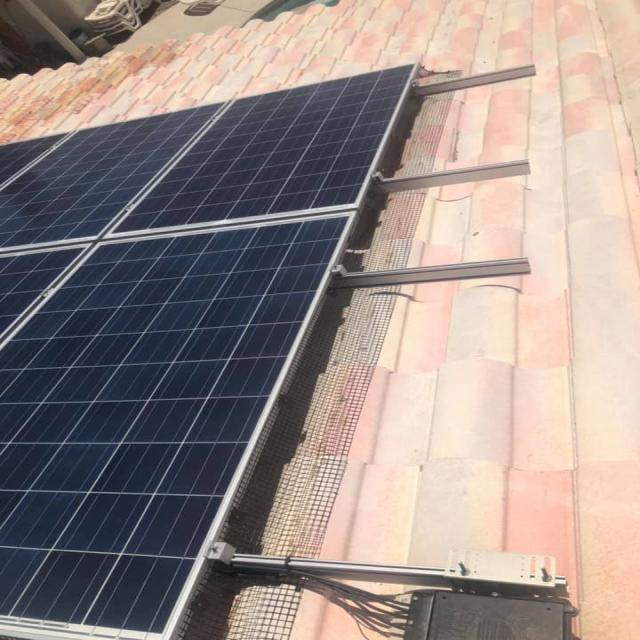clean-solar-panel: (3, 107, 218, 248)
